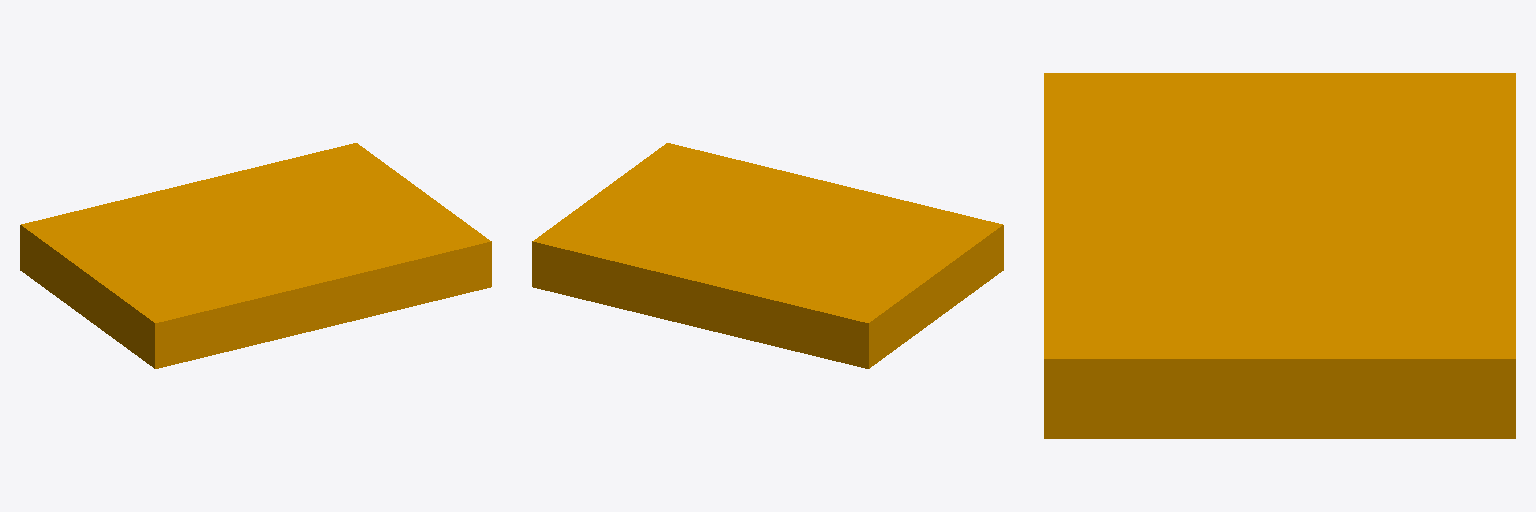
URDF robot description (object):
<robot name="object">
  <link name="object">
    <visual>
      <origin xyz="0 0 0" />
      <geometry>
        <box size="0.23 0.16 0.03"/>
      </geometry>
    </visual>

    <collision>
      <origin xyz="0 0 0" />
      <geometry>
        <box size="0.23 0.16 0.03"/>
      </geometry>
    </collision>

    <inertial>
      <mass value="0.75" />
      <inertia ixx="0.00165625" ixy="0.0" ixz="0.0" iyy="0.0033625" iyz="0.0" izz="0.00490625" />
    </inertial>
  </link>
</robot>

--- Render facts (derived) ---
3 views of the same robot in one strip: view 1: azimuth 30°, elevation 25°; view 2: azimuth 150°, elevation 25°; view 3: azimuth 270°, elevation 25° (orthographic).
Model object with 1 links and 0 joints (none), rooted at object, posed every joint at zero.
Links seen in each view (by area): view 1: object; view 2: object; view 3: object.
Boxes of the visible links, x1,y1,x2,y2 form: object: [20, 143, 491, 368]; object: [532, 143, 1003, 368]; object: [1044, 73, 1515, 438].
Bounding box of the posed robot: 0.23 × 0.16 × 0.03 m (x, y, z).
Geometry: primitives only (box / cylinder / sphere), no mesh files.
